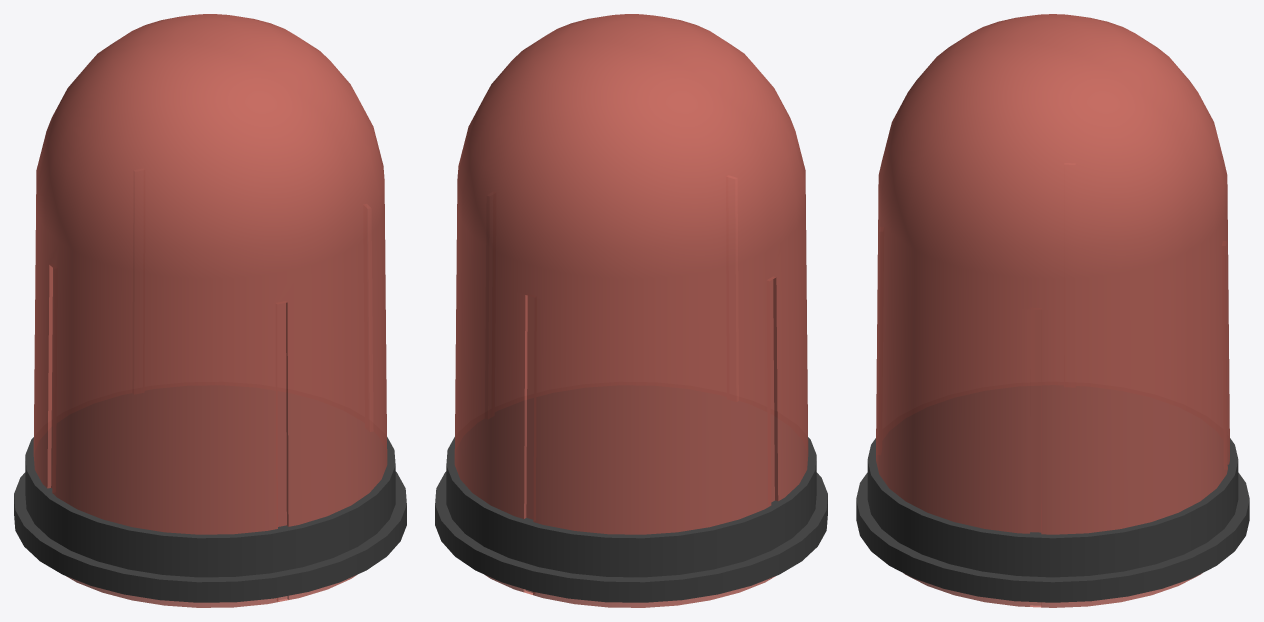
File: Ampule.fbx
The picture shows the model from 3 angles, left to right: view 1: azimuth 30°, elevation 25°; view 2: azimuth 150°, elevation 25°; view 3: azimuth 270°, elevation 25°; orthographic projection.
Parts seen in each view (by area): view 1: Cylinder; view 2: Cylinder; view 3: Cylinder.
Boxes of the visible parts, x1,y1,x2,y2 form: Cylinder: [14, 14, 406, 607]; Cylinder: [435, 14, 827, 607]; Cylinder: [856, 14, 1249, 607].
Size of the model in its own units: 1.99 by 2.79 by 1.99.
